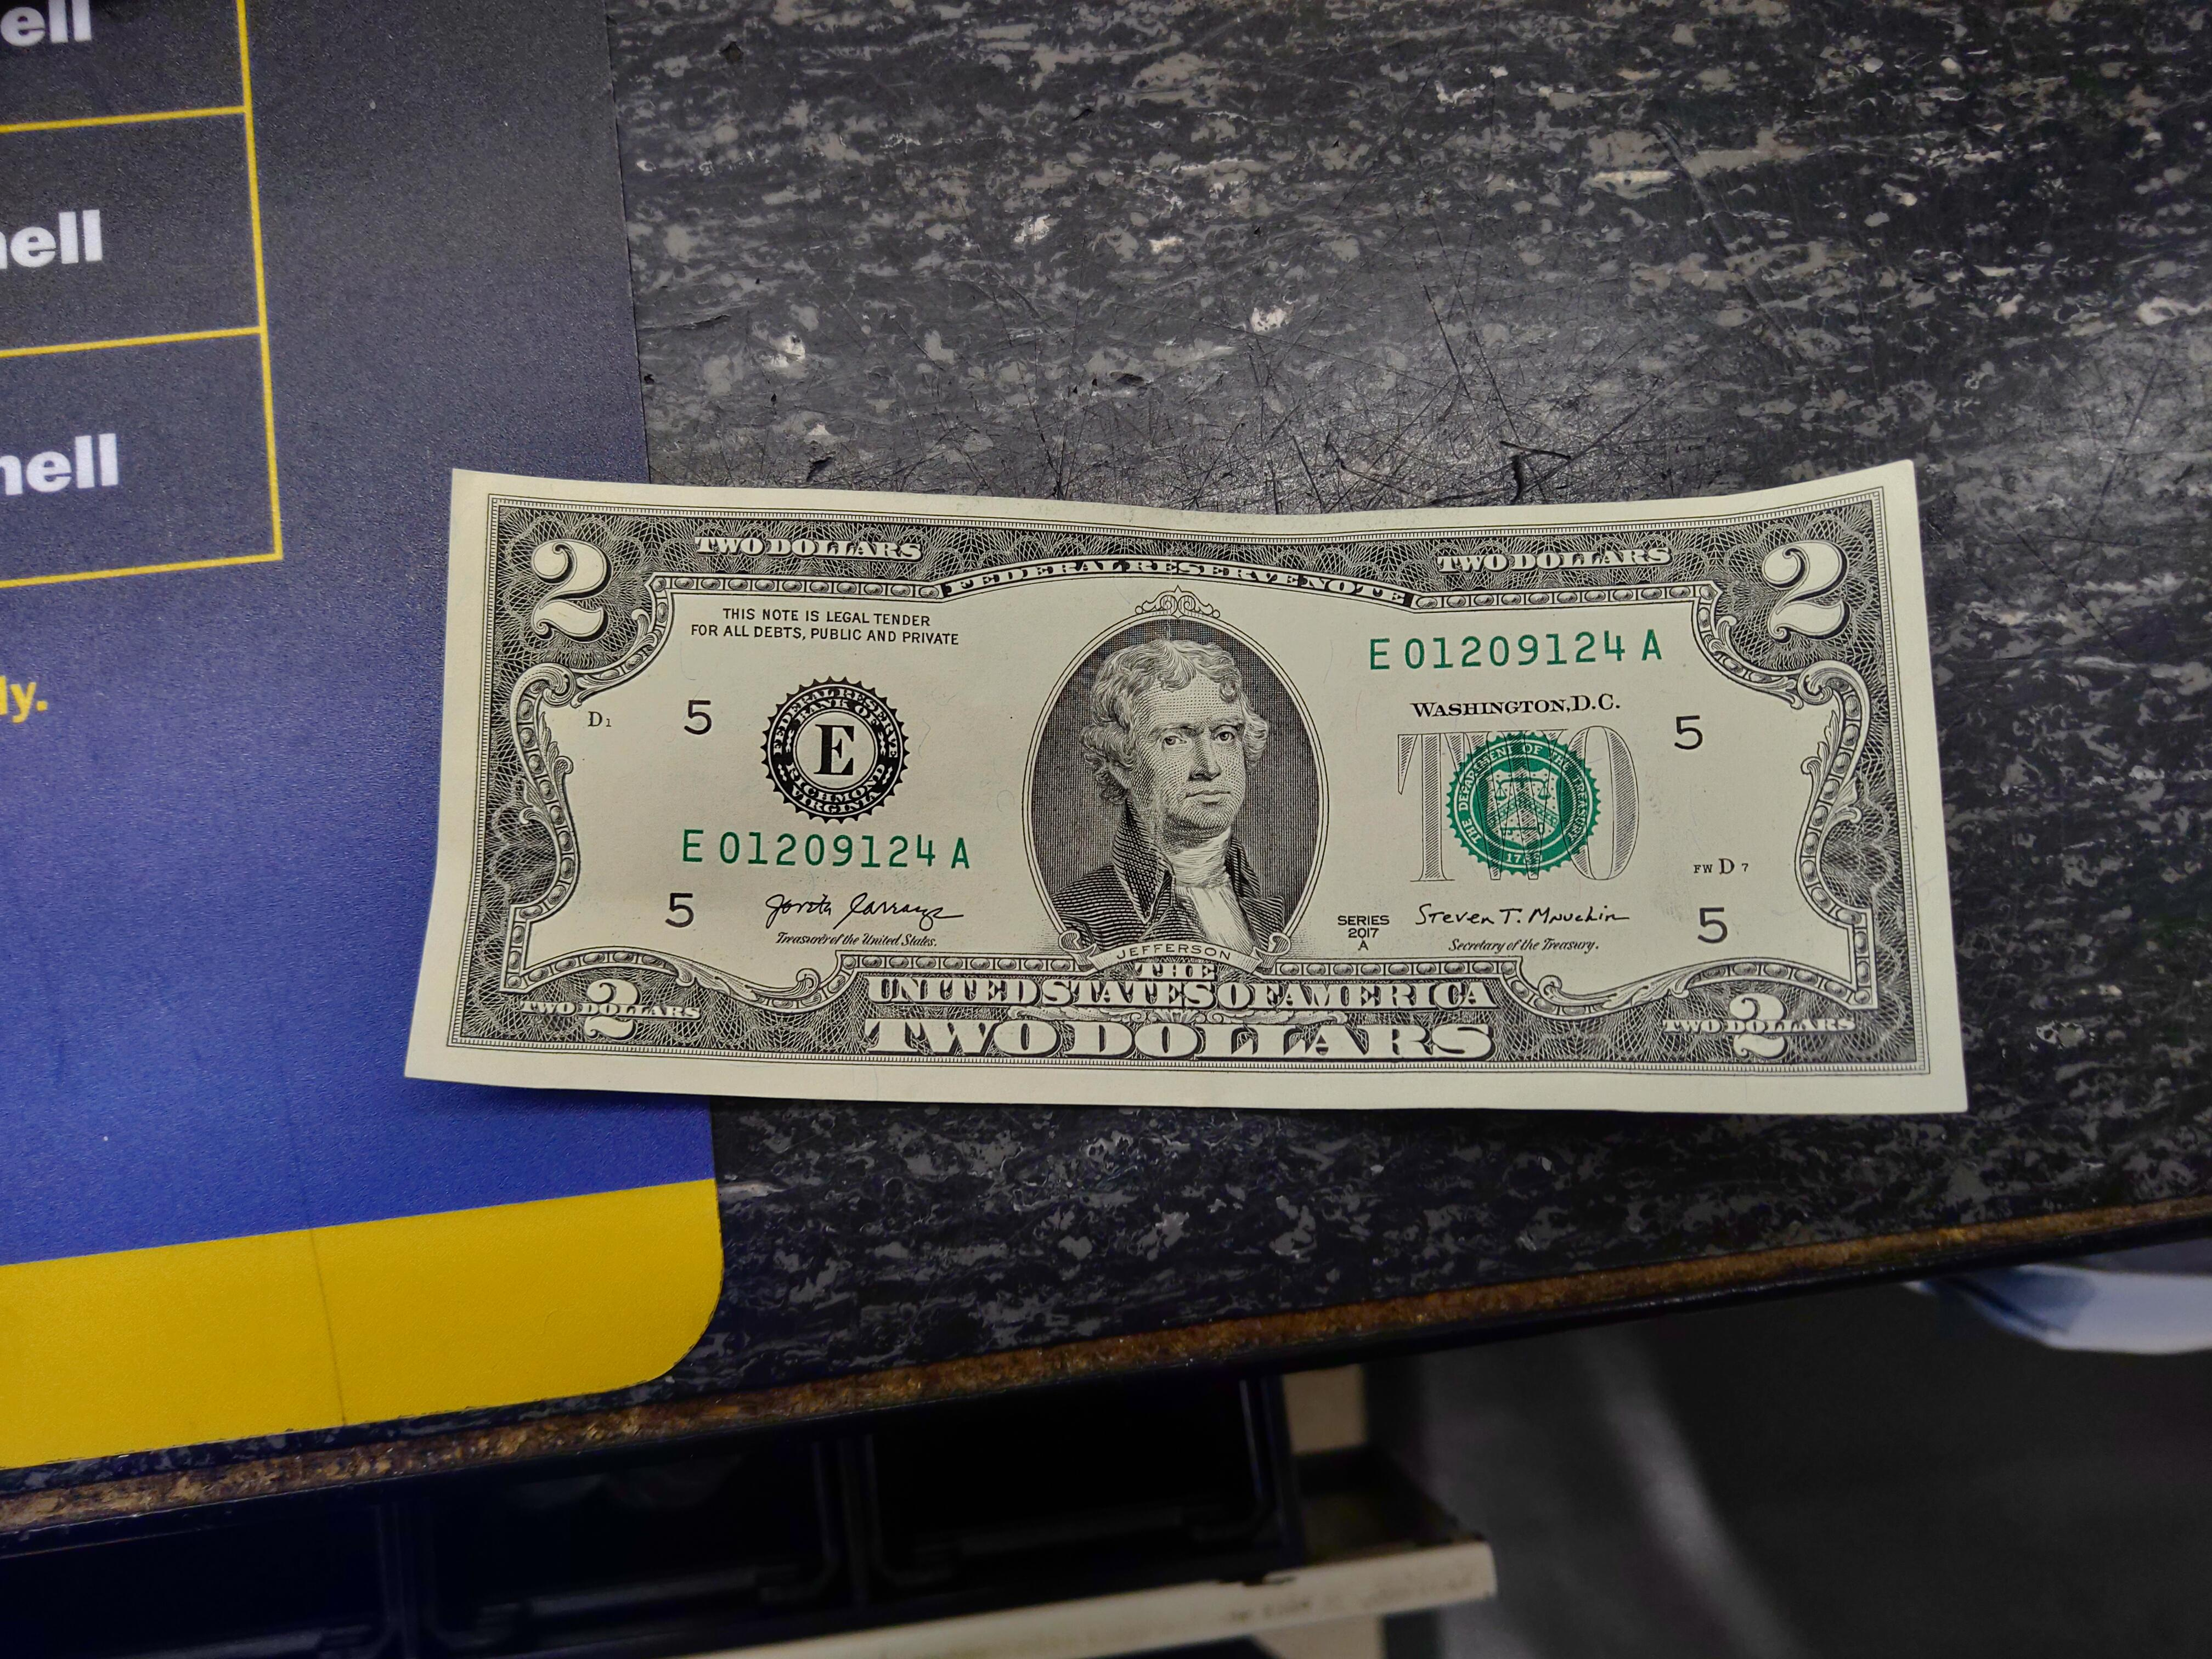TwoBill: (397, 451, 1970, 1127)
